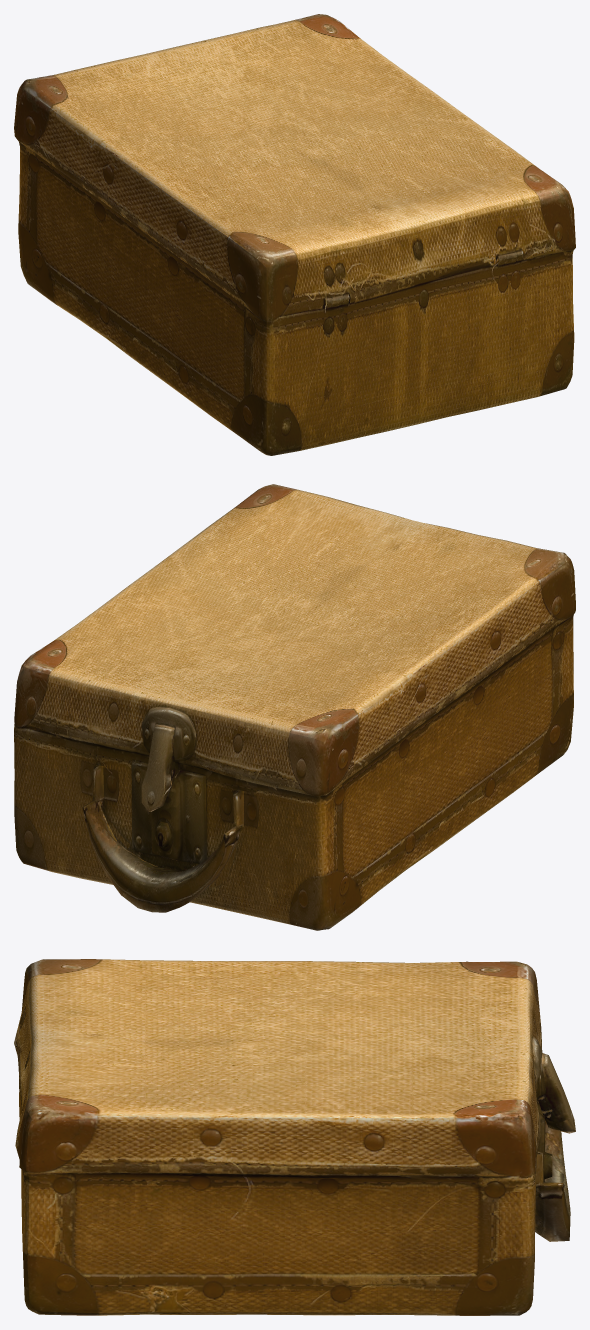
The model's file is suitcase.dae.
3 renders of one model, top to bottom at view 1: azimuth 30°, elevation 25°; view 2: azimuth 150°, elevation 25°; view 3: azimuth 270°, elevation 25°, orthographic.
Parts seen in each view (by area): view 1: node0; view 2: node0; view 3: node0.
Part boxes in pixels (x1,y1,x2,y2): node0: [14, 14, 575, 455]; node0: [14, 484, 575, 930]; node0: [14, 959, 575, 1315].
Bounding box in the file's own units: 0.35 × 0.53 × 0.22.
Materials: 1 (1 with a texture image).
